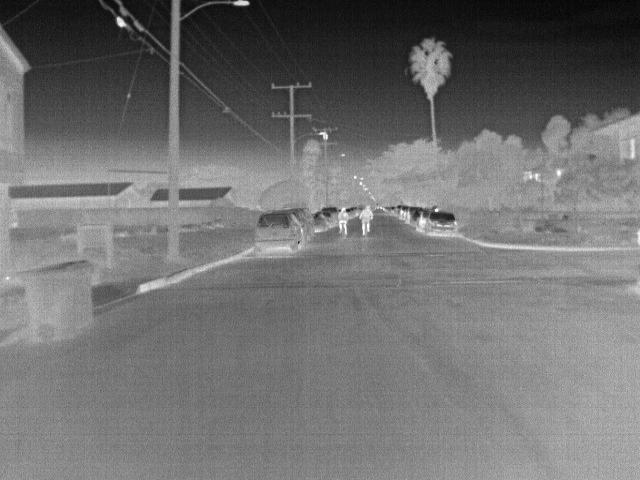car: (253, 211, 307, 253), (427, 211, 459, 236), (290, 209, 316, 239), (416, 209, 437, 232), (308, 213, 328, 232), (321, 206, 338, 226), (409, 208, 424, 226)
person: (359, 204, 373, 234), (338, 205, 351, 237)
